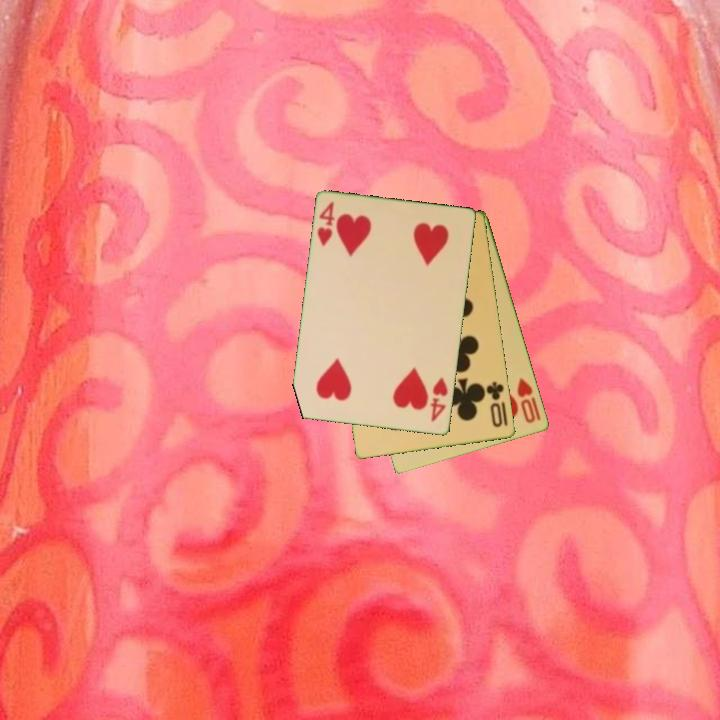10c: (483, 378, 507, 430)
10h: (514, 374, 539, 426)
4h: (427, 374, 451, 425), (314, 198, 338, 249)
